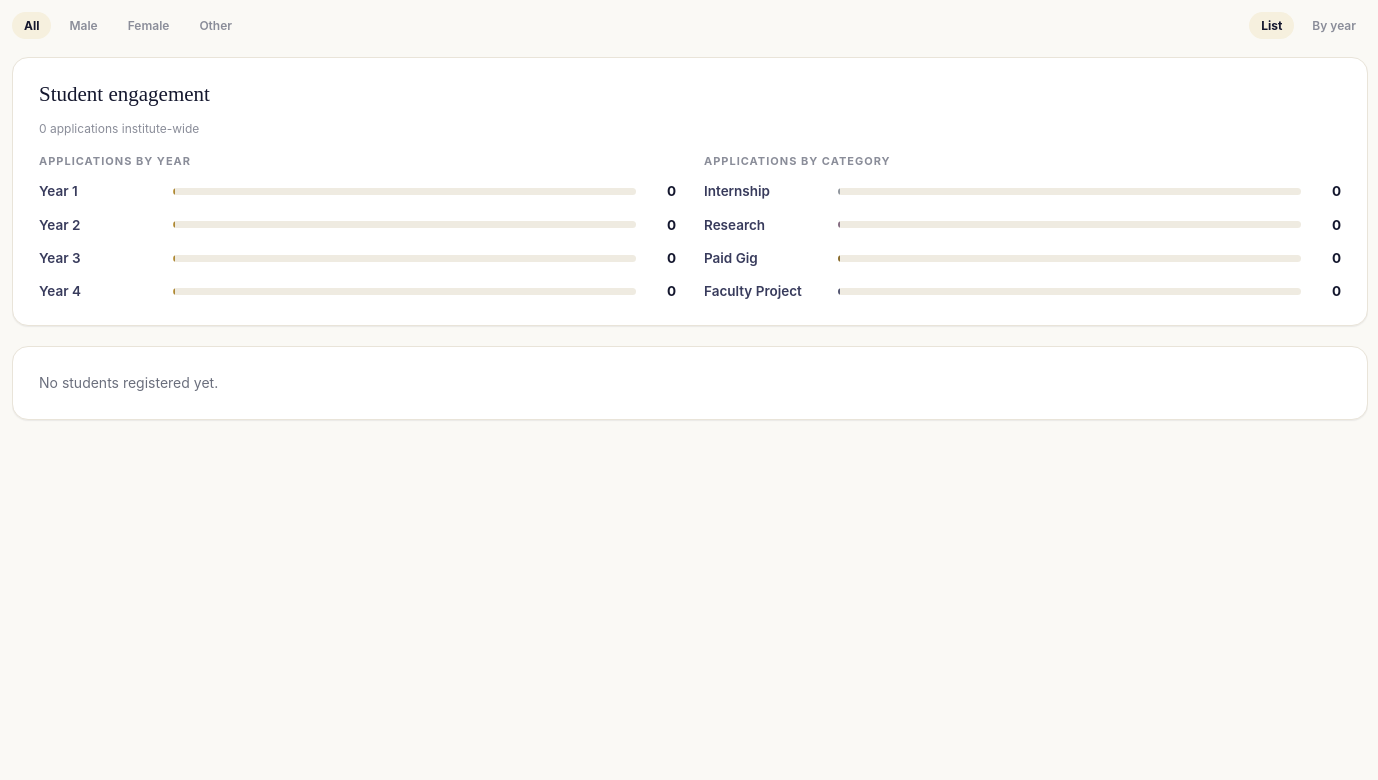
Test: StudentsTab › By year view shows counts up front but only loads a year's roster once it's expanded
Click the button "By year".
click(1334, 26)  # box [1300,12,1368,39]
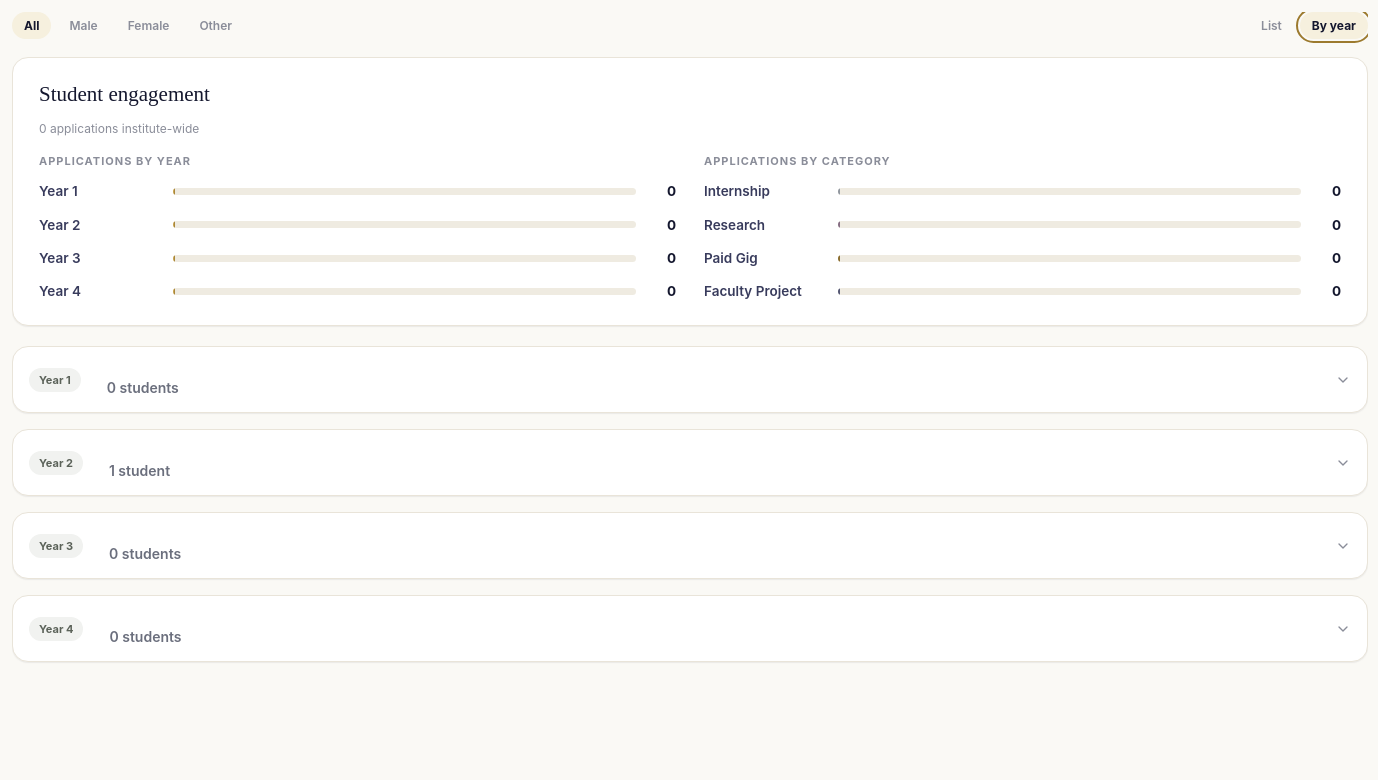
Expected: the text "1 student" is shown, [109,462,170,480]
Click the button "Year 2 1 student".
click(56, 463)  # box [13,430,1367,496]
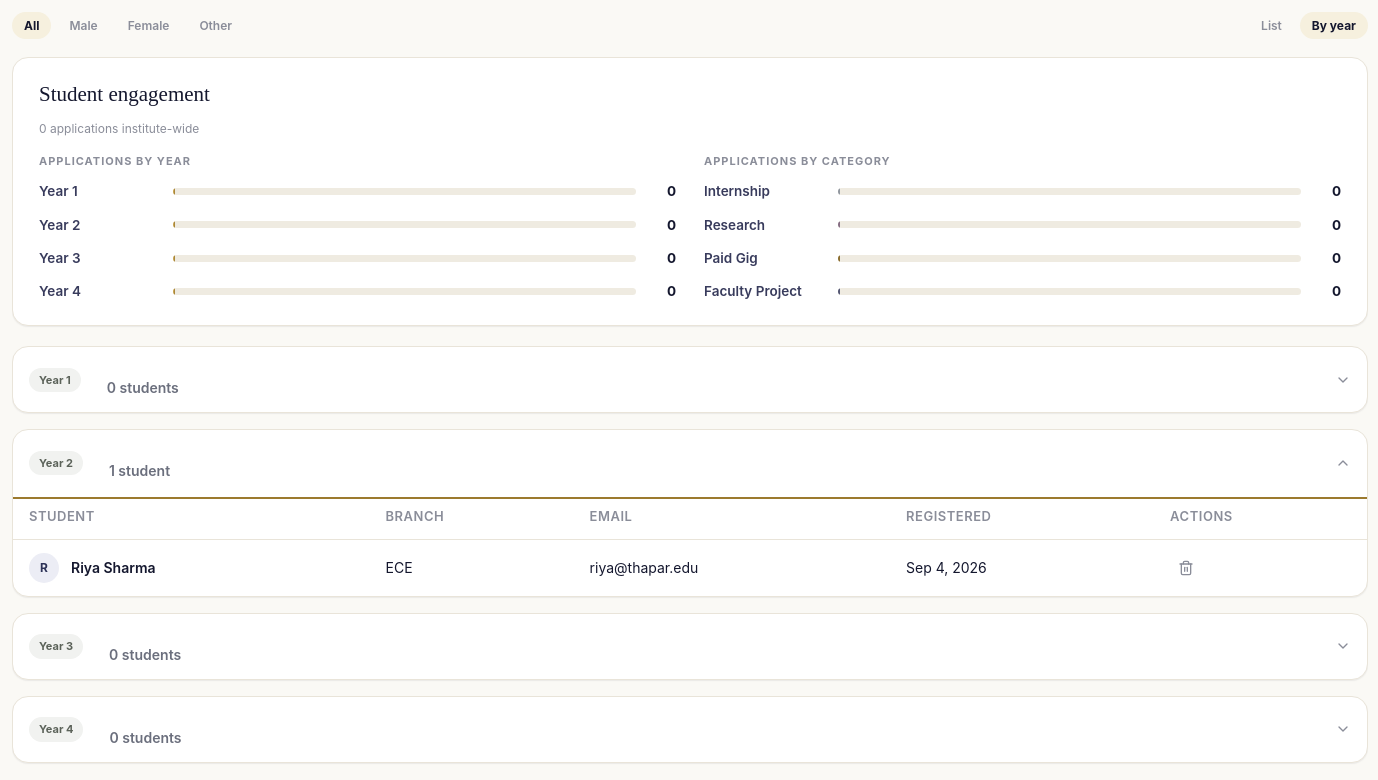
Expected: the text "Riya Sharma" is shown, [71,558,156,578]
